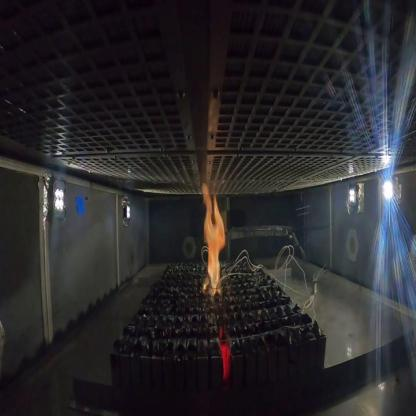fire: (197, 176, 228, 298)
